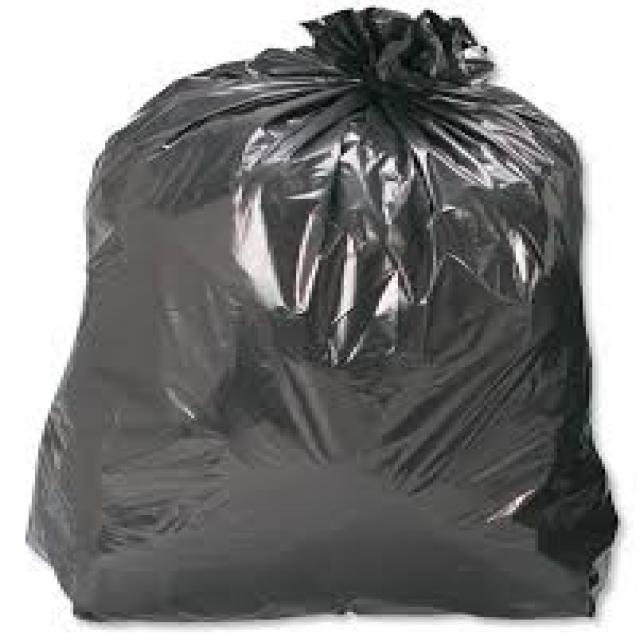plastic bag: (3, 0, 640, 632)
